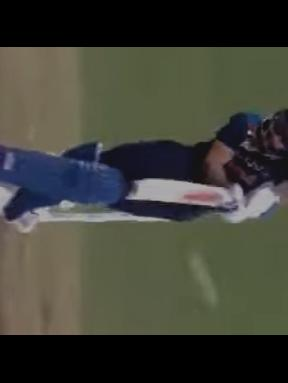batsman: (0, 83, 288, 246)
